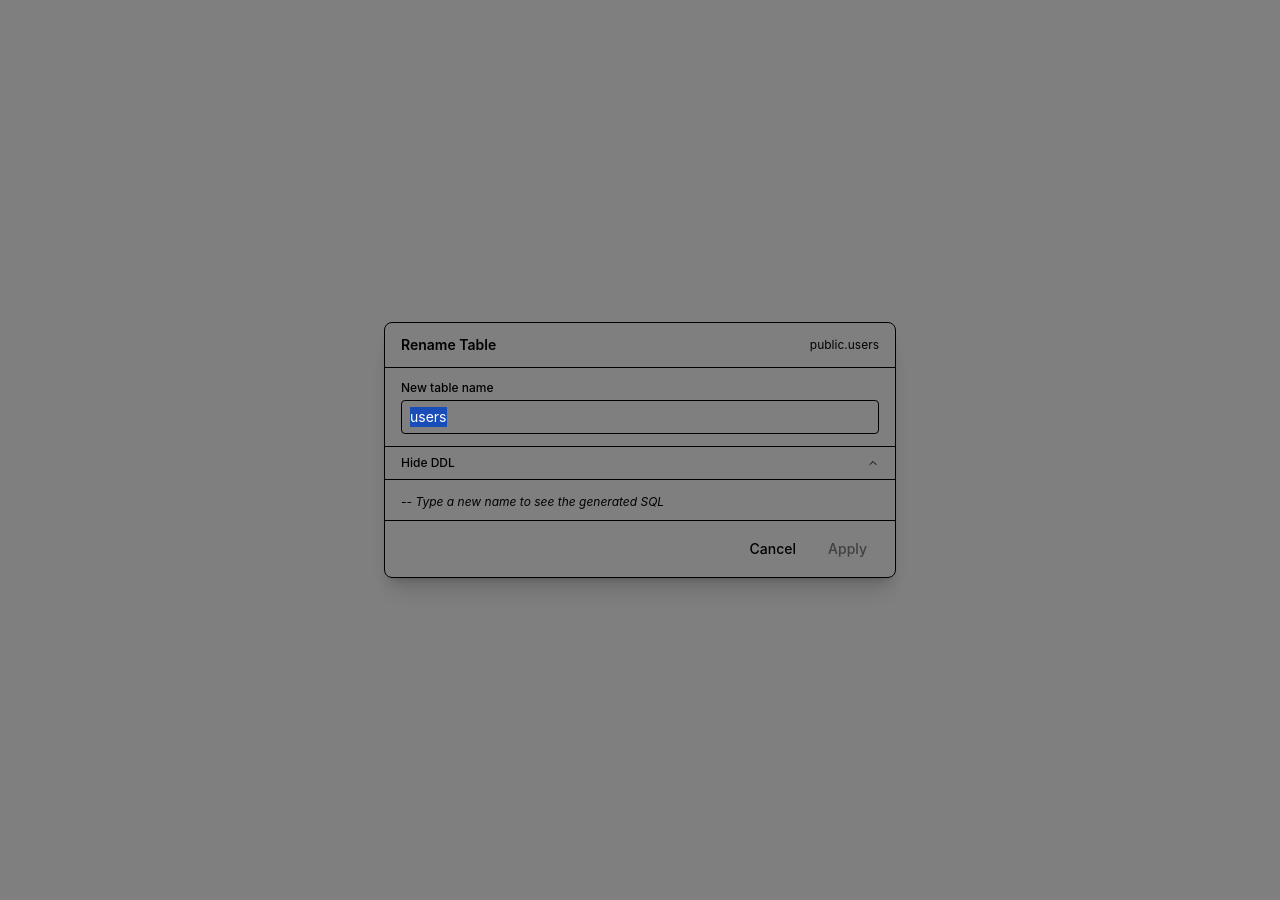
it: RenameTableDialog (Sprint 235) › error branches + Enter-key submit (issue #1630) › preview reject surfaces inline alert + keeps modal open
Replace the text in the field labelled "New table name" with "people" at (640, 417), box [401,400,879,434]
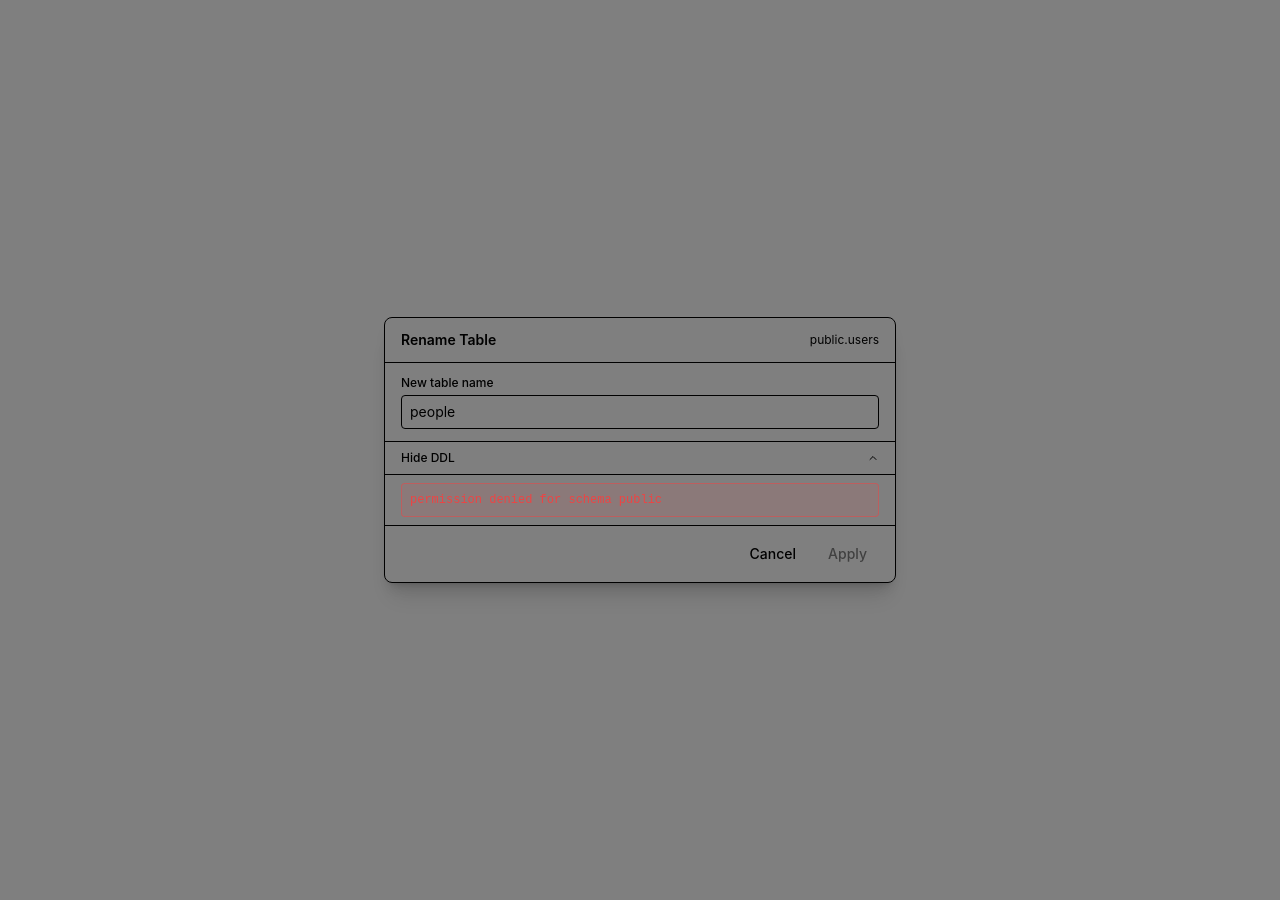
Expected: the message shows "permission denied", [410,493,662,507]
